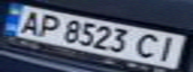2: (93, 23, 115, 53)
3: (109, 25, 133, 55)
5: (78, 20, 96, 48)
8: (57, 17, 84, 45)
A: (12, 7, 45, 36)
C: (133, 30, 166, 61)
I: (151, 35, 187, 63)
P: (33, 12, 66, 38)
